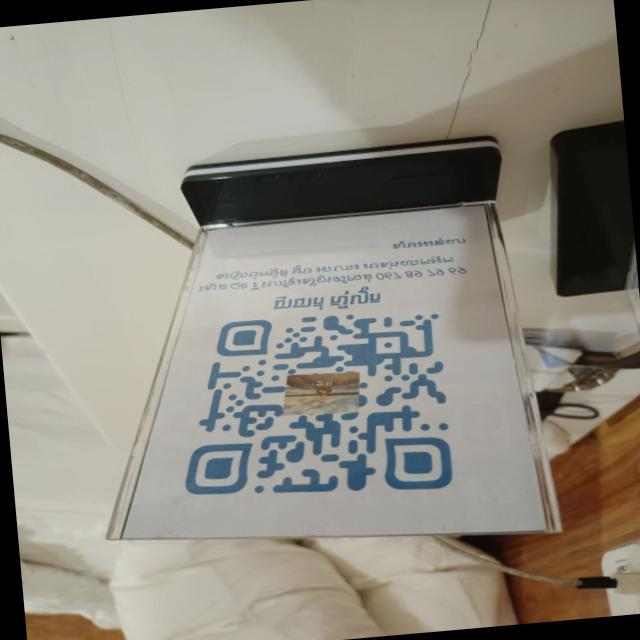1: (271, 282, 388, 314), (248, 269, 375, 293)
3: (213, 249, 458, 284)
353: (375, 263, 469, 283)
Yolov11_80vkh: (390, 234, 468, 252), (195, 280, 229, 293)
